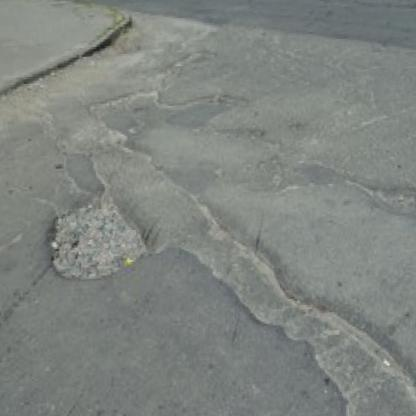pothole: (47, 190, 155, 281)
